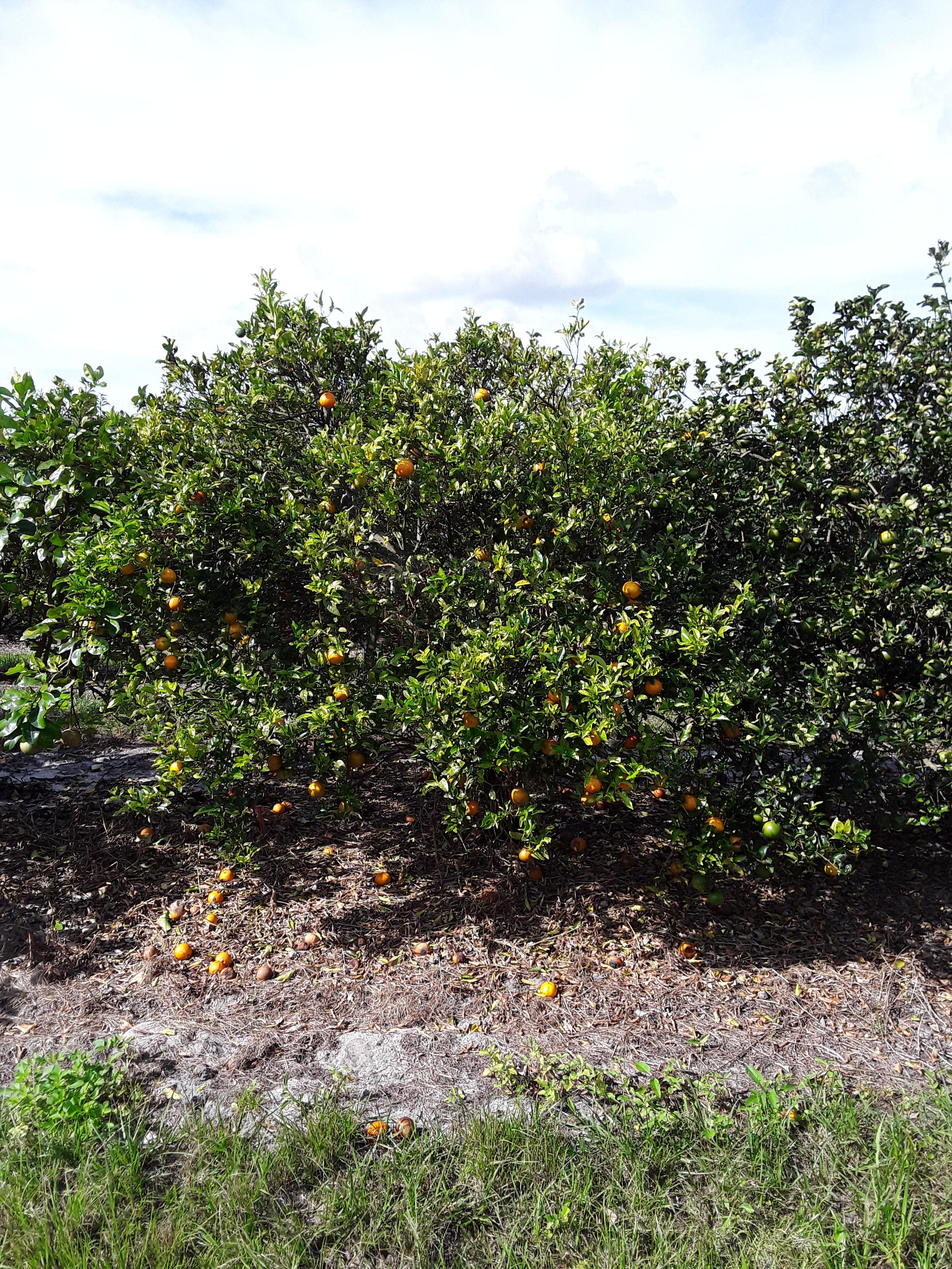fruit_on_ground: (60, 724, 84, 748), (86, 615, 110, 638), (597, 511, 621, 533), (511, 511, 535, 533), (750, 859, 773, 881), (689, 873, 712, 895), (620, 578, 643, 600), (315, 389, 338, 411), (394, 456, 416, 479), (17, 736, 41, 757), (641, 676, 665, 697), (795, 617, 818, 638), (315, 495, 338, 516), (540, 736, 563, 757), (761, 819, 783, 840), (324, 645, 347, 665), (306, 778, 327, 799), (508, 786, 529, 807), (448, 766, 470, 786), (705, 814, 727, 834), (705, 890, 727, 910), (877, 527, 899, 546), (346, 749, 366, 769), (460, 709, 481, 728), (224, 622, 246, 640), (785, 532, 805, 551), (846, 482, 865, 502), (822, 859, 841, 879), (544, 685, 564, 704), (472, 385, 492, 404), (680, 792, 699, 812), (159, 566, 179, 585), (649, 772, 671, 789), (166, 756, 185, 775), (577, 580, 597, 598), (165, 592, 185, 610), (351, 471, 371, 489), (117, 559, 137, 577), (265, 752, 283, 772), (135, 548, 154, 566), (584, 728, 603, 746), (584, 776, 603, 794), (723, 722, 742, 740), (332, 683, 351, 701), (463, 797, 481, 816), (472, 545, 492, 562), (781, 369, 799, 387), (529, 457, 548, 474), (557, 697, 576, 714), (612, 619, 631, 636), (765, 523, 782, 541), (191, 488, 209, 505), (622, 733, 640, 750), (163, 653, 181, 670), (276, 766, 295, 782), (872, 683, 889, 700), (220, 608, 238, 624), (516, 846, 533, 862), (685, 466, 702, 482), (331, 725, 348, 741), (607, 699, 623, 716), (337, 799, 353, 815), (607, 659, 624, 674), (547, 523, 564, 538), (618, 777, 635, 792), (735, 435, 753, 449), (155, 636, 171, 651), (168, 619, 185, 633), (695, 428, 710, 443), (621, 684, 636, 698), (172, 501, 186, 516), (680, 429, 695, 443)
fruit_on_tree: (365, 1117, 390, 1141), (393, 1114, 416, 1140), (479, 885, 502, 906), (537, 979, 560, 1000), (677, 940, 700, 960), (779, 1105, 801, 1124), (173, 940, 192, 960), (254, 963, 273, 982), (569, 834, 588, 853), (372, 869, 392, 887), (215, 949, 233, 967), (411, 940, 430, 957), (206, 888, 225, 905), (217, 866, 235, 883), (168, 902, 185, 919), (527, 866, 544, 883), (667, 860, 686, 875), (138, 825, 155, 841), (207, 958, 224, 974), (197, 821, 215, 836), (606, 954, 624, 969), (303, 932, 320, 947), (222, 964, 237, 979), (451, 951, 467, 965), (205, 911, 219, 927), (593, 797, 608, 811), (578, 792, 592, 806), (420, 767, 434, 781), (651, 787, 666, 800), (271, 802, 286, 815), (560, 787, 574, 799), (280, 800, 294, 810), (404, 813, 416, 824)
